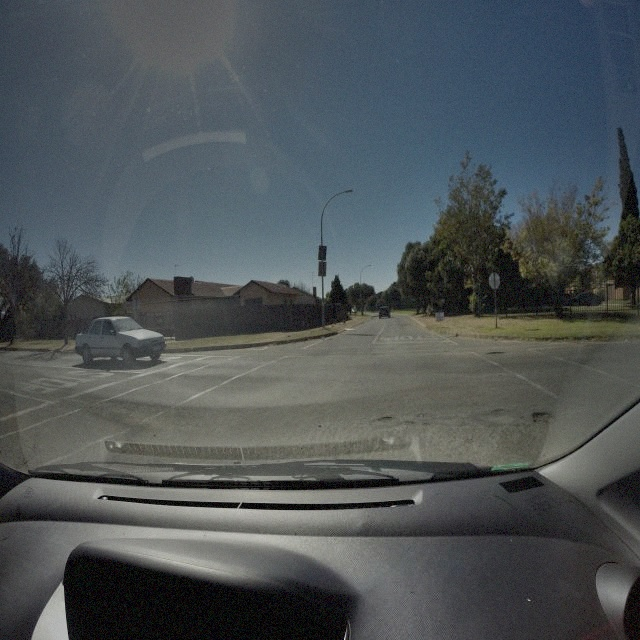pothole: (531, 409, 554, 426), (376, 415, 394, 424), (486, 348, 506, 354), (491, 406, 503, 416), (402, 420, 415, 428)
